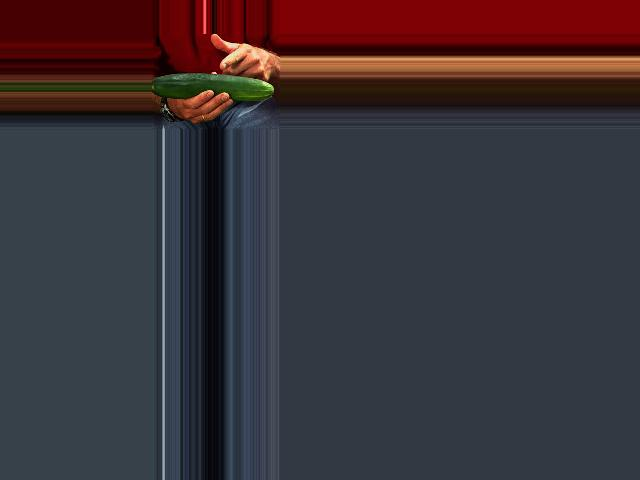cucumber: (151, 73, 273, 102)
